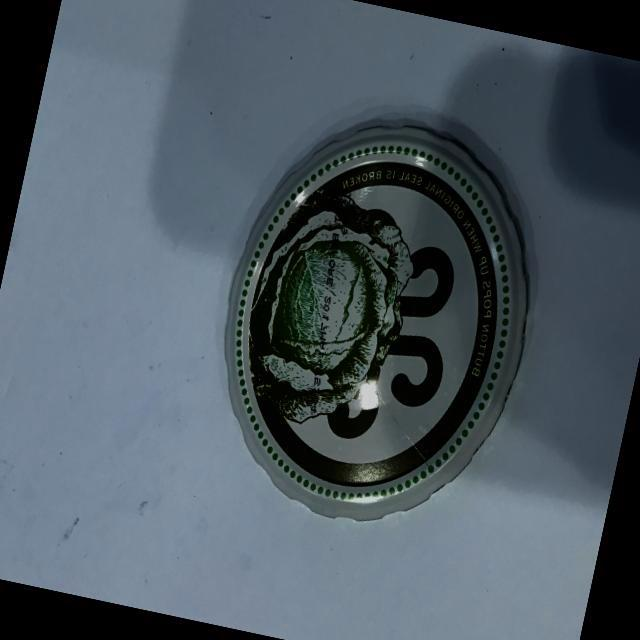metal: (147, 72, 580, 560)
